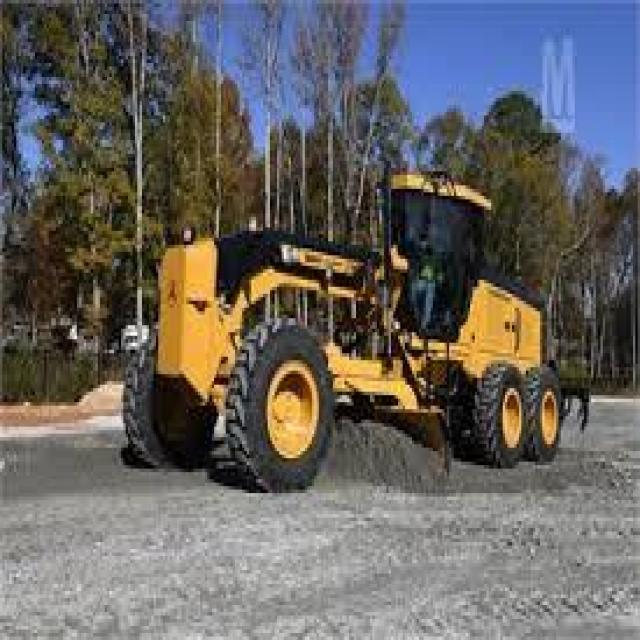buldozerpayloadergrader: (114, 150, 600, 510)
